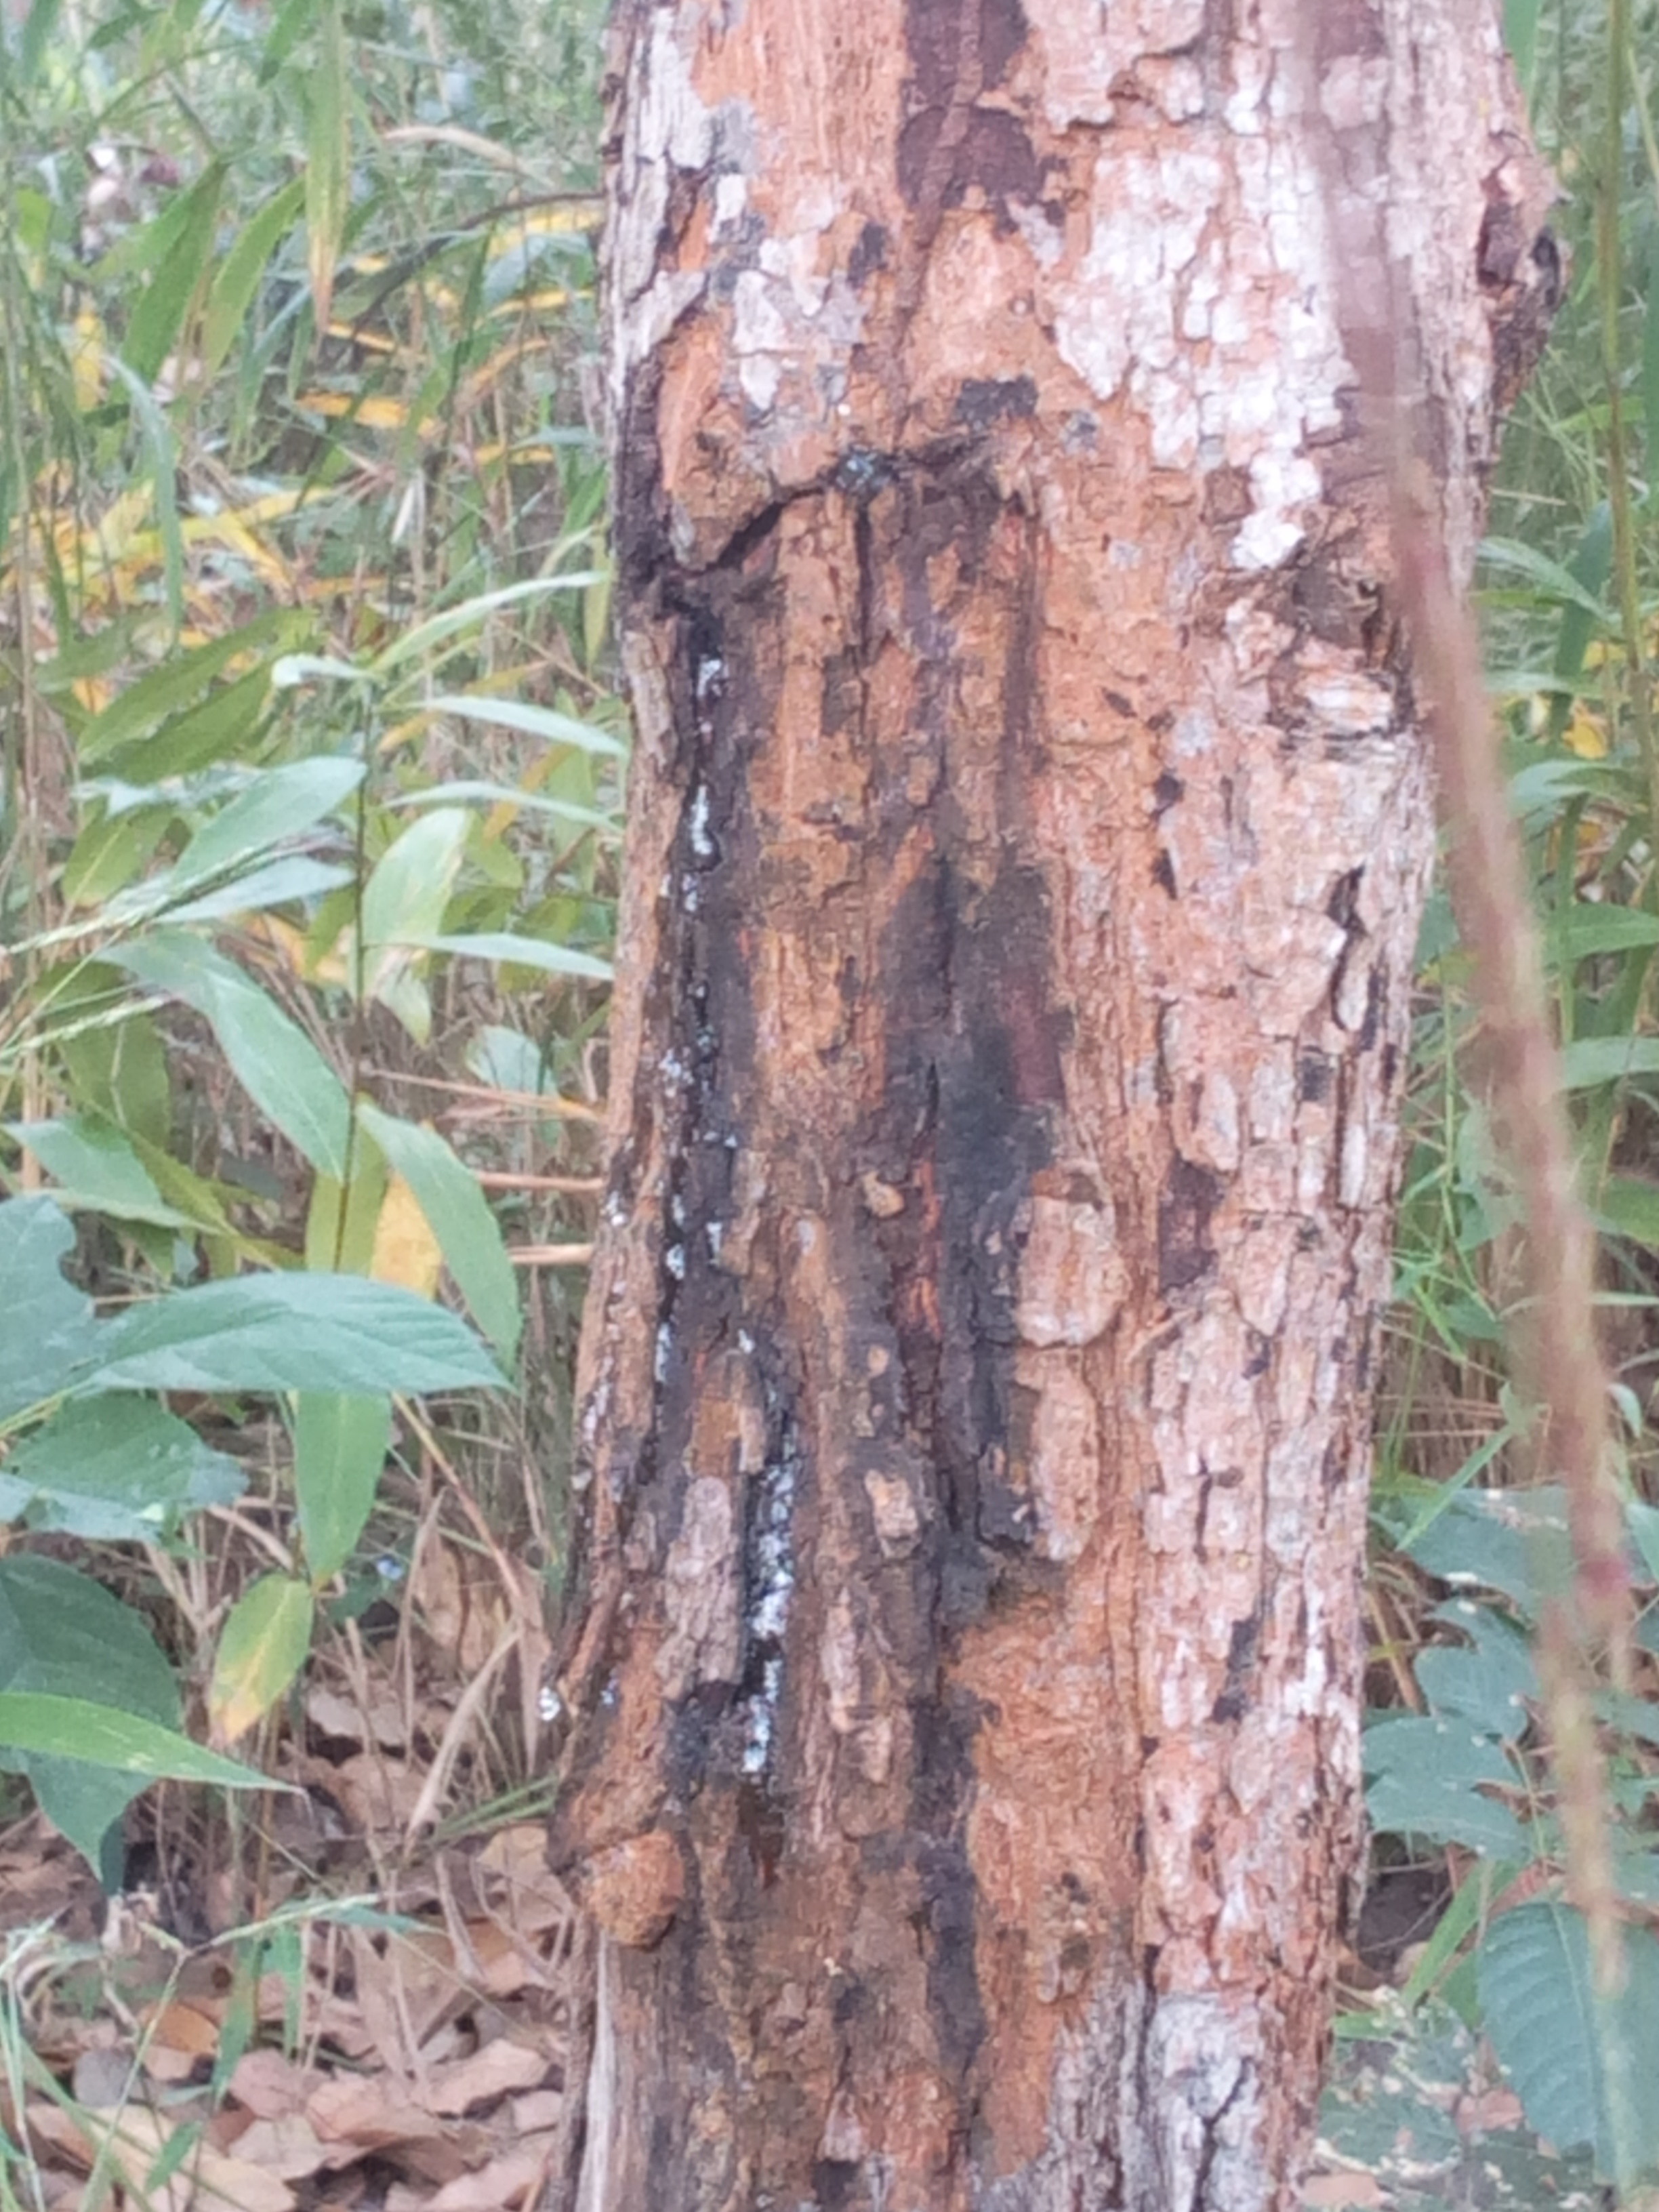Gommose: (568, 519, 1019, 1926)
